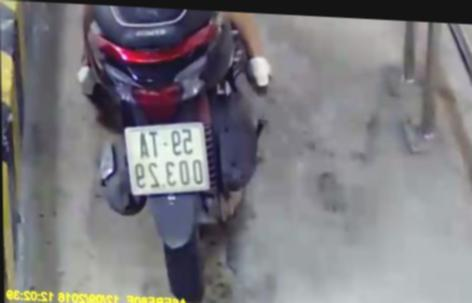License_Plate: (121, 112, 216, 204)
